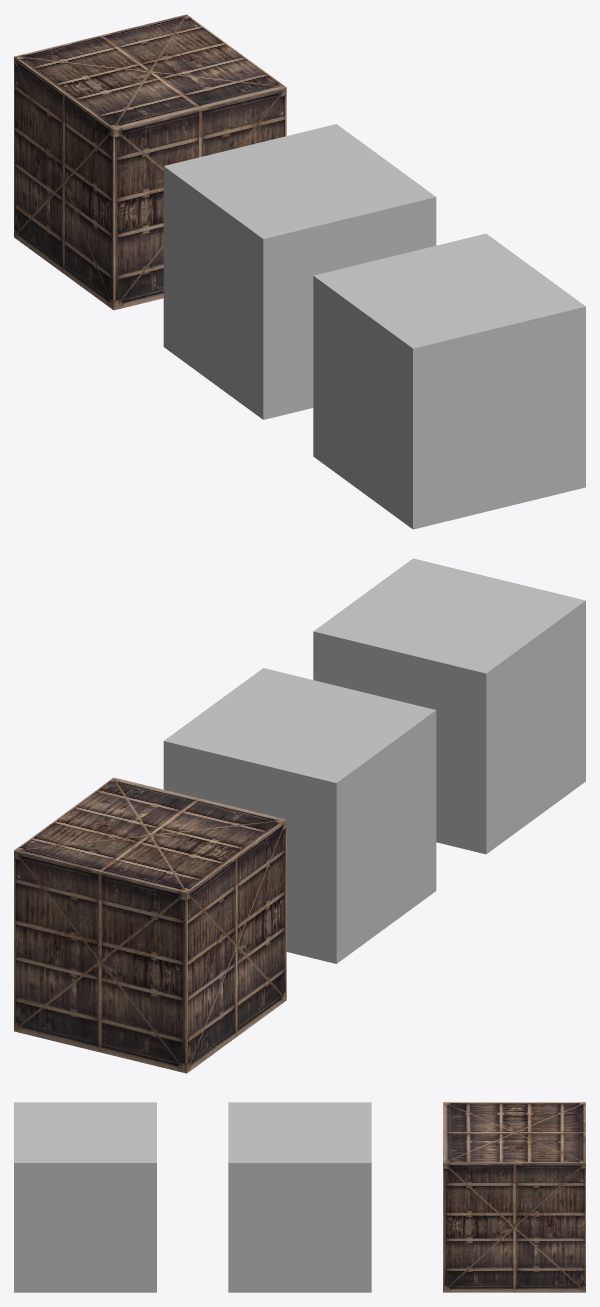
The model's file is objTest.obj.
3 renders of one model, top to bottom at view 1: azimuth 30°, elevation 25°; view 2: azimuth 150°, elevation 25°; view 3: azimuth 270°, elevation 25°, orthographic. The views are drawn at different scales.
Parts seen in each view (by area): view 1: Cube03, Cube01, Cube02; view 2: Cube02, Cube01, Cube03; view 3: Cube01, Cube02, Cube03.
Part boxes in pixels (x1,y1,x2,y2): Cube03: [313, 233, 585, 529]; Cube01: [163, 124, 436, 419]; Cube02: [14, 14, 286, 310]; Cube02: [14, 777, 286, 1073]; Cube01: [163, 668, 436, 963]; Cube03: [313, 558, 585, 854]; Cube01: [228, 1102, 371, 1292]; Cube02: [443, 1102, 585, 1292]; Cube03: [14, 1102, 156, 1292].
Bounding box in the file's own units: 2 × 2 × 8.
